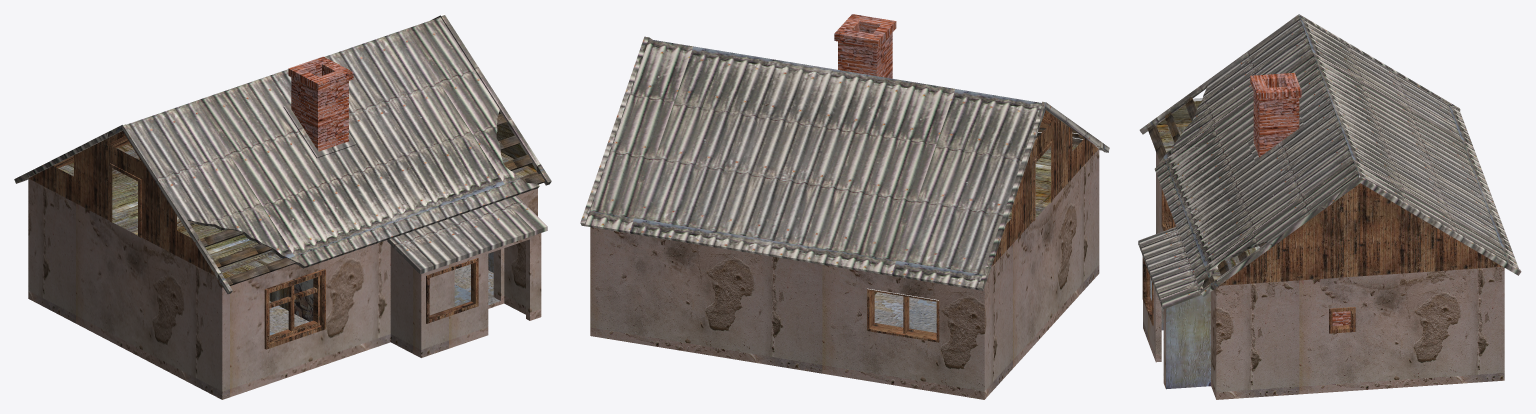
File: abandoned_house_3-low_poly.glb
3 views of the same model, side by side, from view 1: azimuth 30°, elevation 25°; view 2: azimuth 150°, elevation 25°; view 3: azimuth 270°, elevation 25° (orthographic). The views are drawn at different scales.
Visible parts, largest first — view 1: Material2 (×3), Material3 (×5); view 2: Material2 (×3), Material3 (×3); view 3: Material2 (×3), Material3 (×4).
Part boxes in pixels (box(x1,y1,x2,y2)): Material2 (×3): box(14, 15, 551, 349); Material3 (×5): box(28, 56, 544, 399); Material2 (×3): box(580, 36, 1109, 342); Material3 (×3): box(590, 14, 1099, 399); Material2 (×3): box(1138, 14, 1521, 333); Material3 (×4): box(1143, 72, 1504, 399).
Size of the model in its own units: 5.16 by 3 by 4.51.
11 materials, 9 textured.
